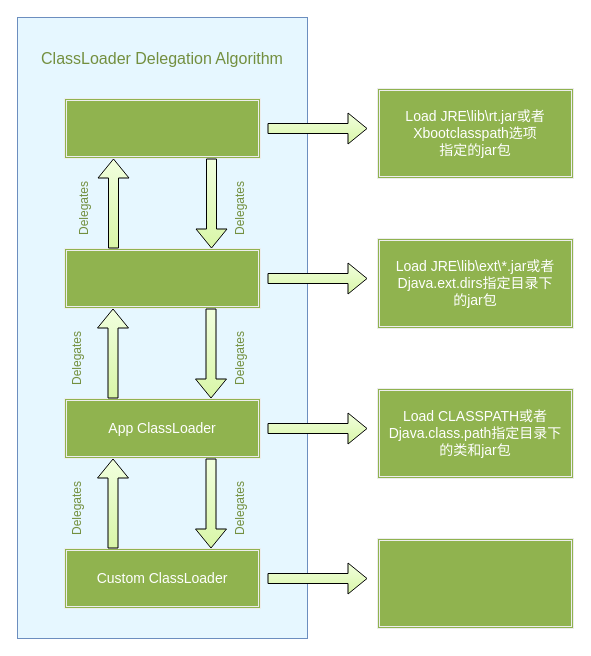
The diagram is 591 pixels wide and 656 high, and some of its shapes have lost their labels. Here are the shapes that lost their labels. From the top down, the centre of each, then its label:
At (162,128): "Bootstrap ClassLoader".
At (162,278): "Extension ClassLoader".
At (475,583): "通过java.lang.ClassLoader的子类自定义加载class".
